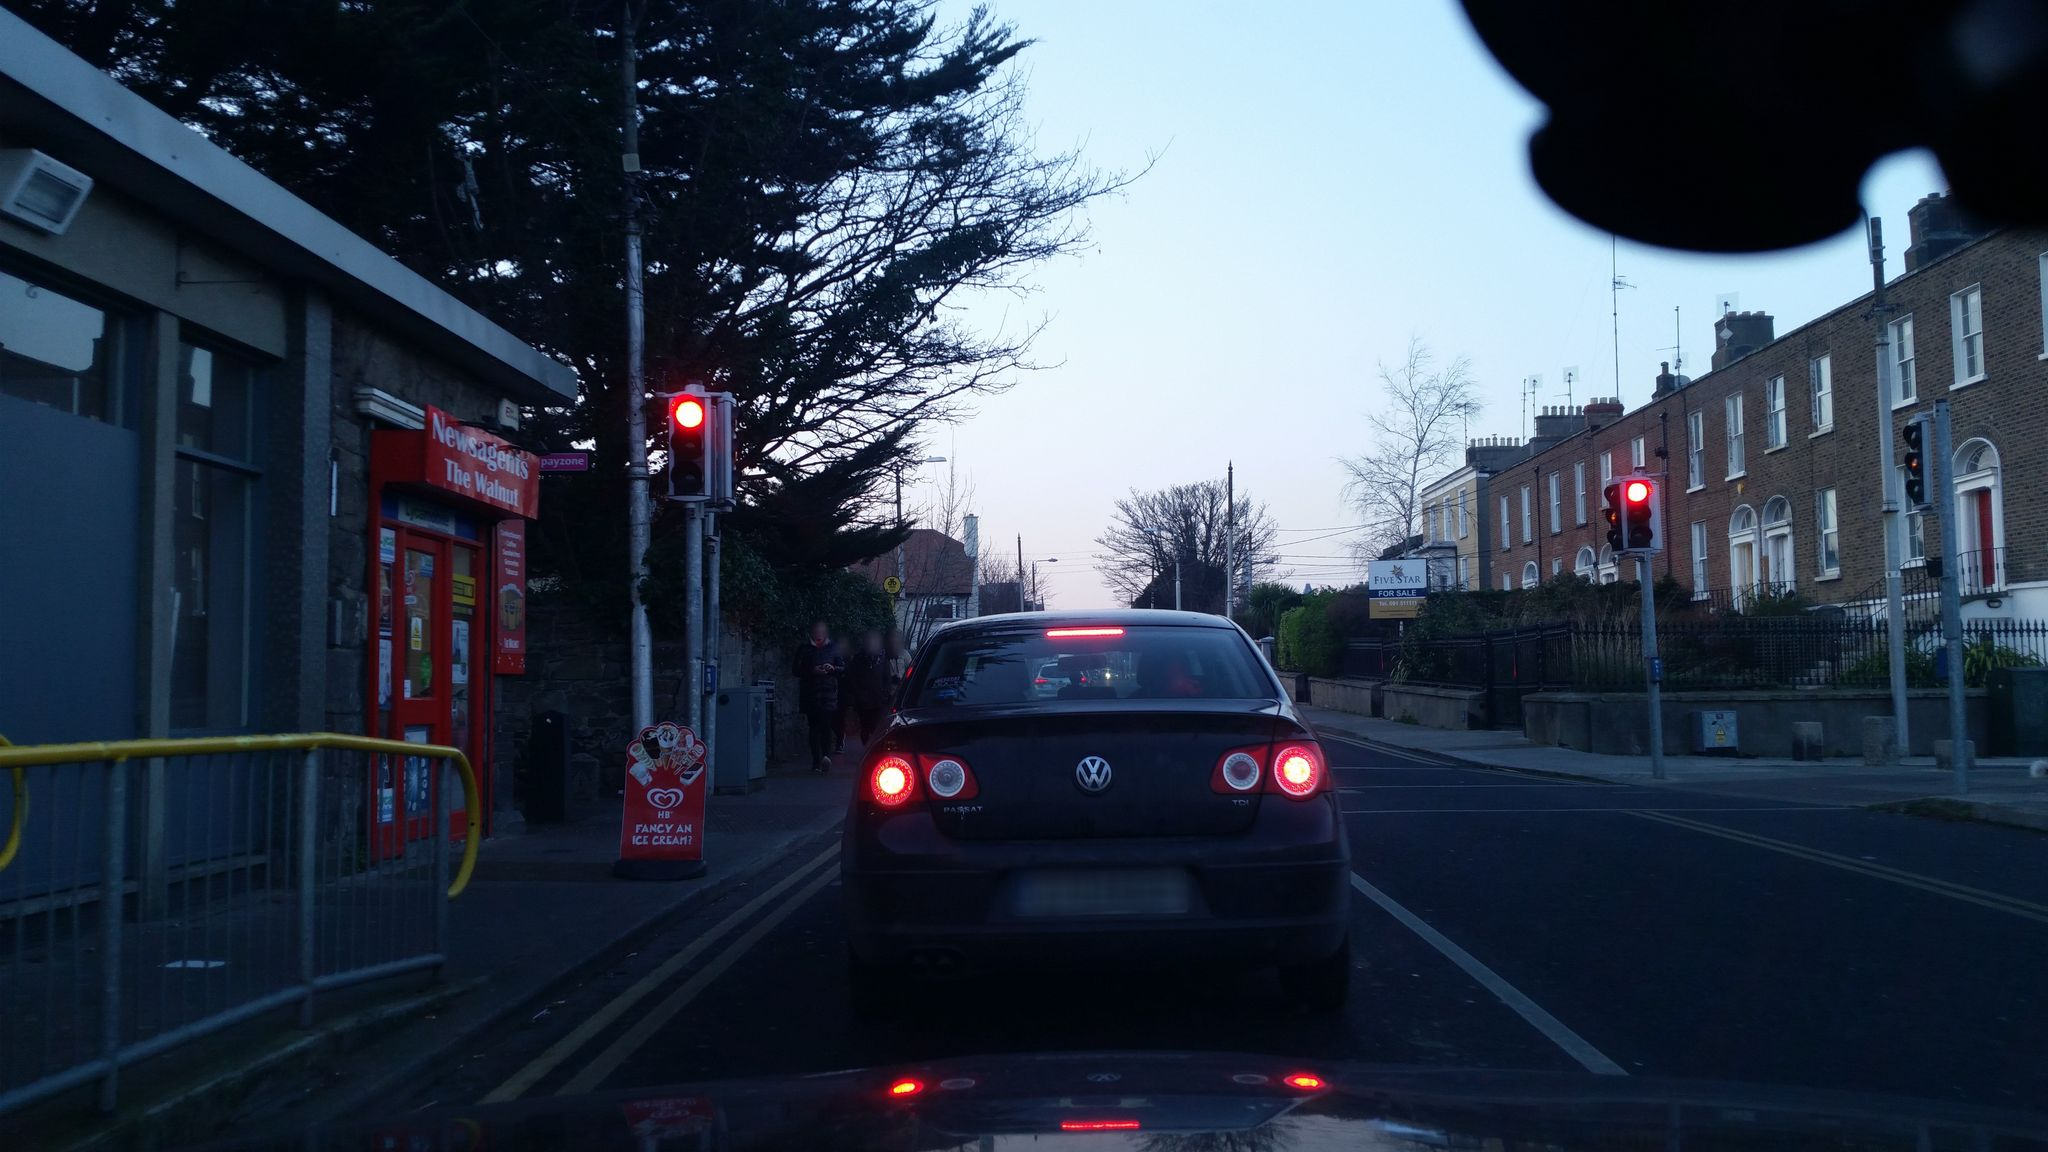property sign: (1355, 540, 1445, 627)
